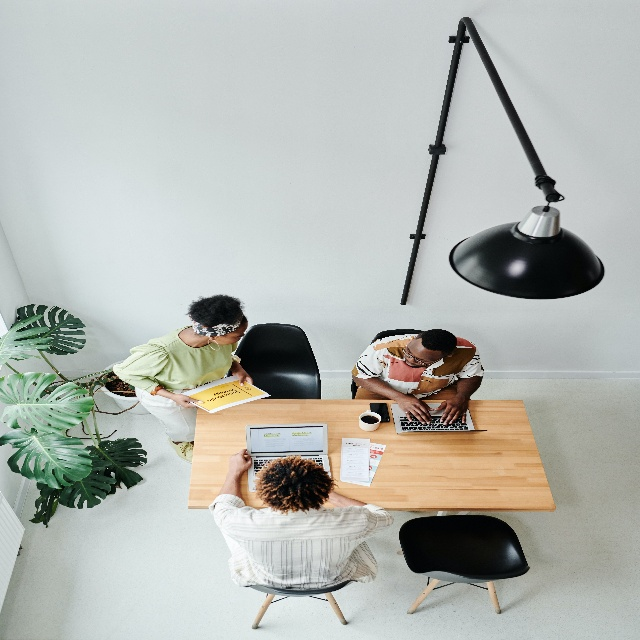Gafas: (402, 345, 443, 367)
Sin_guantes: (399, 392, 435, 426), (434, 393, 469, 425), (228, 447, 253, 476), (174, 392, 204, 408), (232, 368, 253, 387)
